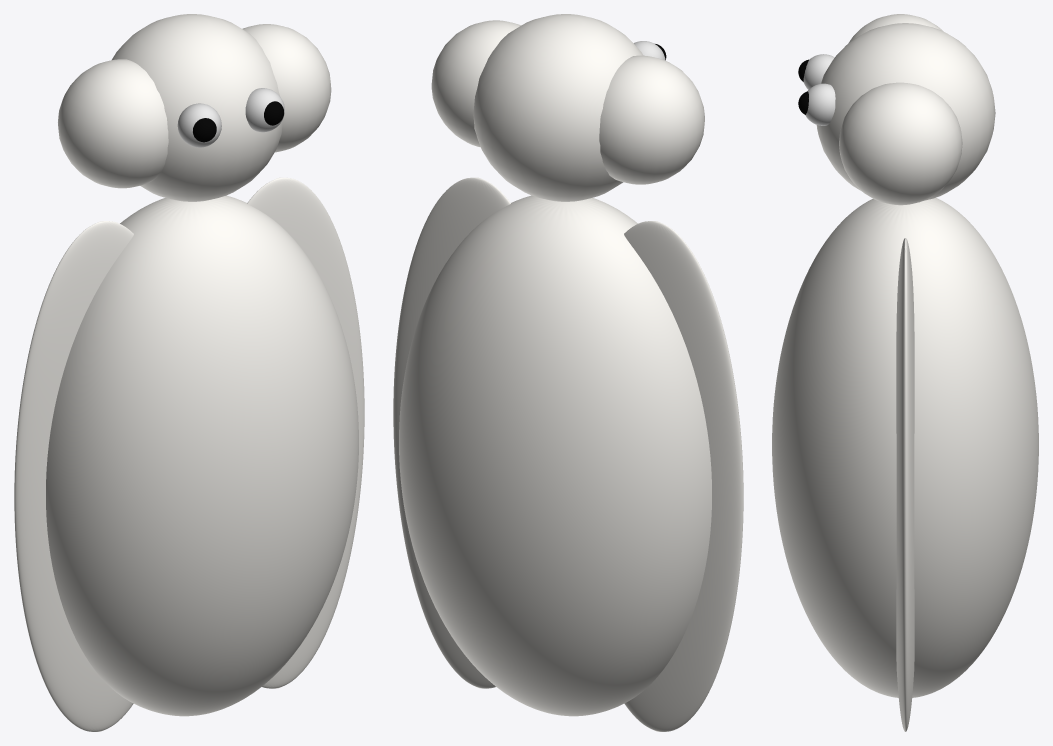
The model's file is baymax4.glb.
3 renders of one model, left to right at view 1: azimuth 30°, elevation 25°; view 2: azimuth 150°, elevation 25°; view 3: azimuth 270°, elevation 25°, orthographic. The views are drawn at different scales.
Parts seen in each view (by area): view 1: Body, Body.001, Head, Head.003, Body.002, Head.004, Head.001, Head.002; view 2: Body, Body.001, Head, Head.003, Body.002, Head.004; view 3: Body, Head, Head.004, Body.002, Head.002, Head.003, Head.001.
Boxes of the visible parts, x1,y1,x2,y2 form: Body: (46, 195, 358, 716); Body.001: (14, 221, 133, 731); Head: (112, 14, 282, 201); Head.003: (58, 59, 168, 188); Body.002: (247, 177, 364, 688); Head.004: (242, 24, 331, 152); Head.001: (177, 103, 221, 147); Head.002: (245, 88, 284, 132); Body: (399, 195, 711, 716); Body.001: (624, 221, 743, 731); Head: (473, 14, 643, 201); Head.003: (599, 55, 704, 184); Body.002: (393, 177, 510, 688); Head.004: (431, 20, 520, 147); Body: (772, 197, 1038, 697); Head: (816, 23, 995, 200); Head.004: (839, 82, 962, 205); Body.002: (896, 238, 914, 731); Head.002: (805, 83, 835, 125); Head.003: (848, 14, 943, 43); Head.001: (803, 54, 834, 89).
Size of the model in its own units: 2.29 by 4.29 by 1.58.
Materials: 4 (2 with a texture image).
